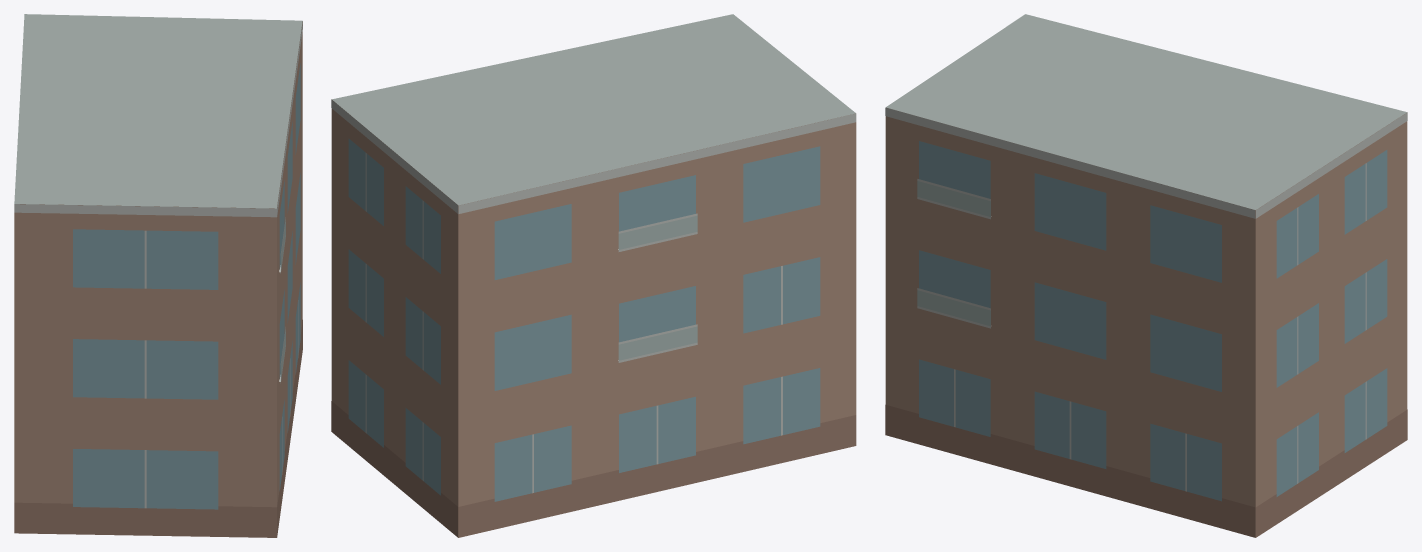
The model's file is survey-upis-32747169.glb.
The picture shows the model from 3 angles, left to right: view 1: azimuth 30°, elevation 25°; view 2: azimuth 150°, elevation 25°; view 3: azimuth 270°, elevation 25°; orthographic projection.
Parts seen in each view (by area): view 1: survey-upis-32747169.tmp; view 2: survey-upis-32747169.tmp; view 3: survey-upis-32747169.tmp.
Boxes of the visible parts, x1,y1,x2,y2 form: survey-upis-32747169.tmp: (14, 14, 302, 537); survey-upis-32747169.tmp: (331, 14, 856, 537); survey-upis-32747169.tmp: (885, 14, 1407, 537).
Bounding box in the file's own units: 11.76 × 9.15 × 13.22.
